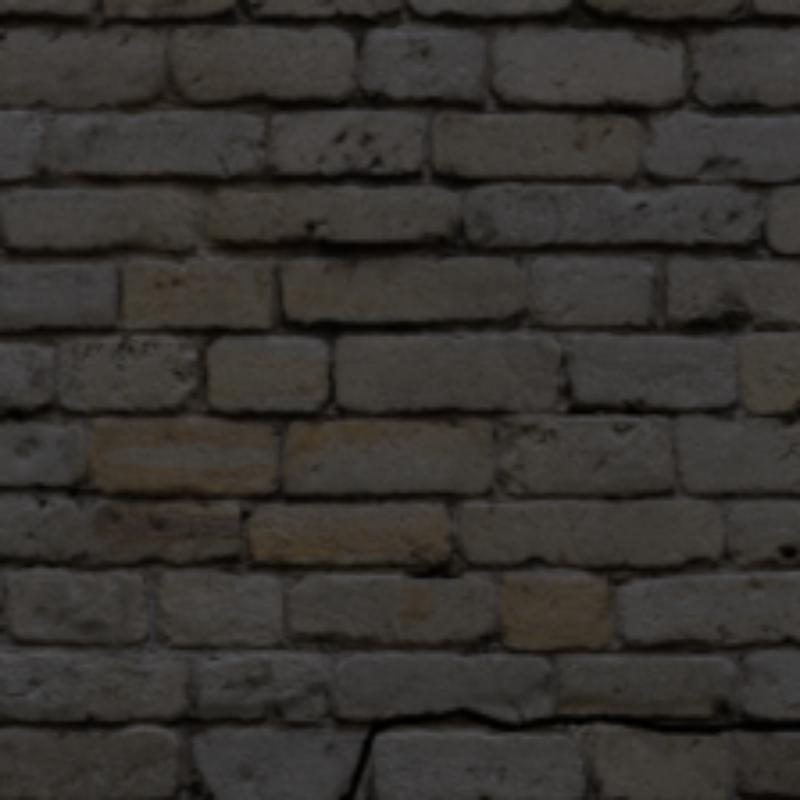crack: (339, 707, 796, 796)
